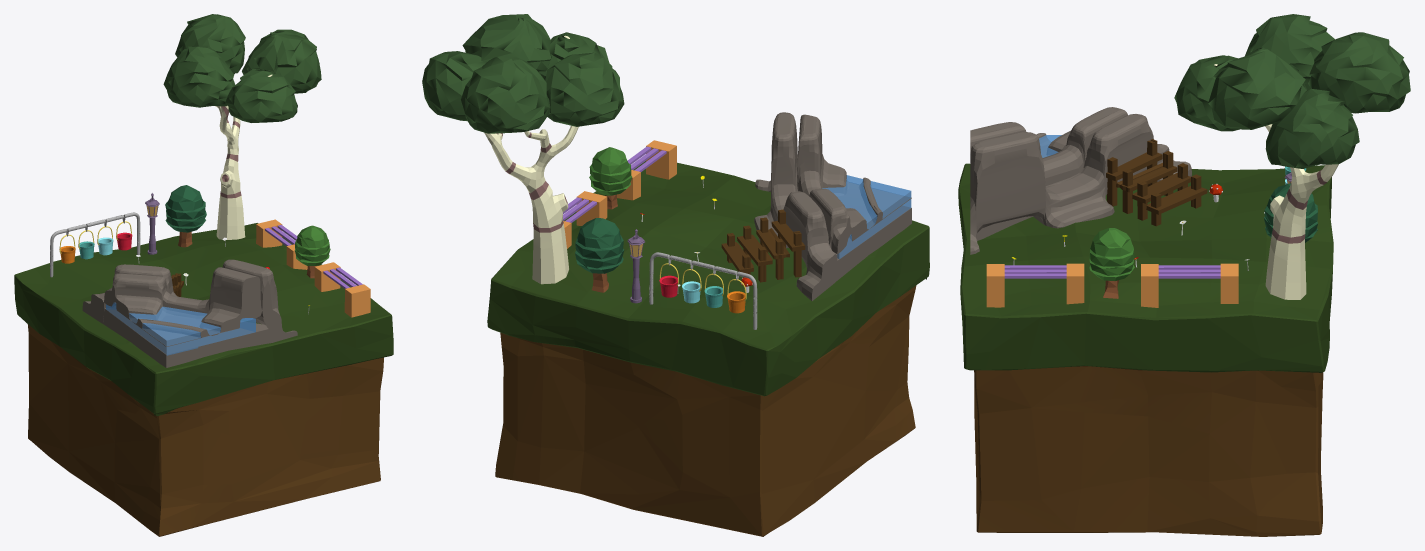
The model's file is L1.min.gltf.
3 renders of one model, left to right at view 1: azimuth 30°, elevation 25°; view 2: azimuth 150°, elevation 25°; view 3: azimuth 270°, elevation 25°, orthographic. The views are drawn at different scales.
Visible parts, largest first — view 1: CENTERED.009; view 2: CENTERED.009; view 3: CENTERED.009.
Boxes of the visible parts, <box> form: CENTERED.009: <box>14,14,393,536</box>; CENTERED.009: <box>422,14,929,536</box>; CENTERED.009: <box>958,14,1410,536</box>.
Size of the model in its own units: 1.3 by 1.56 by 1.31.
